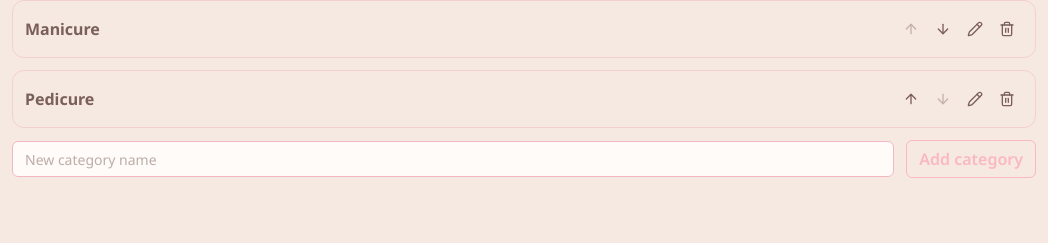
Test: CategoryPanel › keeps the typed category name and shows the error when add fails
Type "Manicure" into the field labelled "New category name".
click(453, 159); type("Manicure")  # box [12, 141, 894, 177]
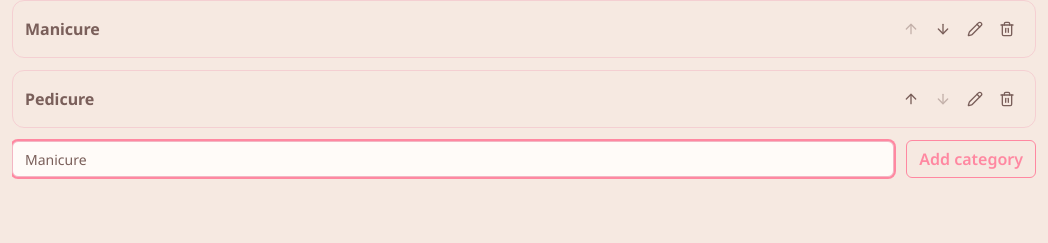
Click the button "Add category".
click(971, 159)  # box [906, 140, 1036, 178]
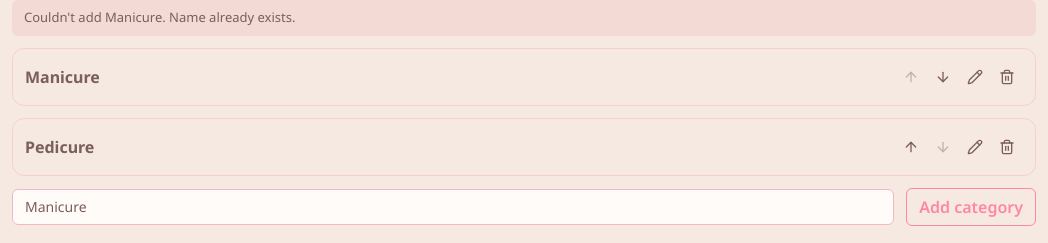
Expected: the message shows "Name already exists.", [24, 8, 296, 26]
